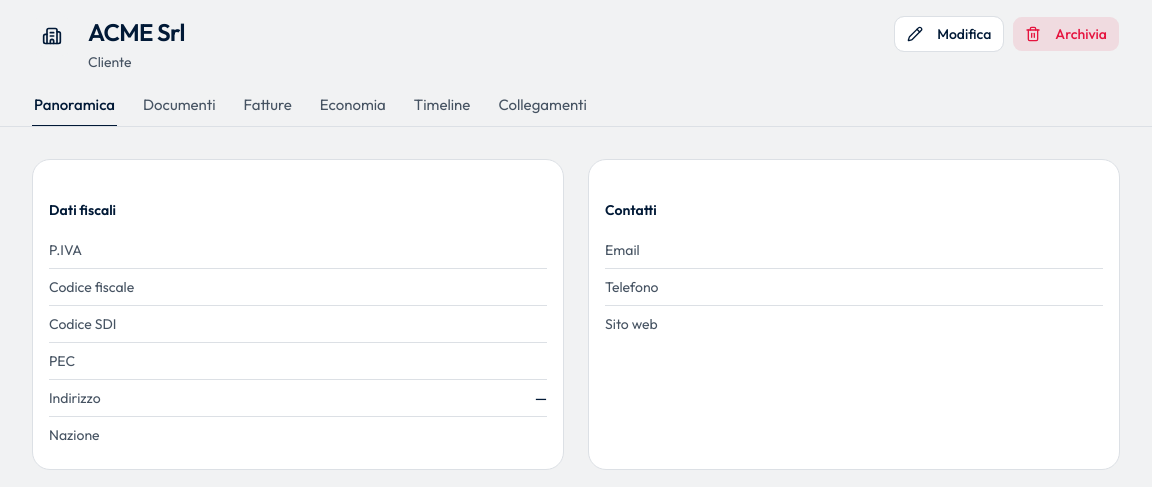
Scenario: CustomerDetail › the Fatture tab › offers a new invoice to whoever may create one
The width and height of the screenshot is (1152, 487).
Click the tab "Fatture".
click(268, 110)  # box x1=242 y1=94 x2=294 y2=126
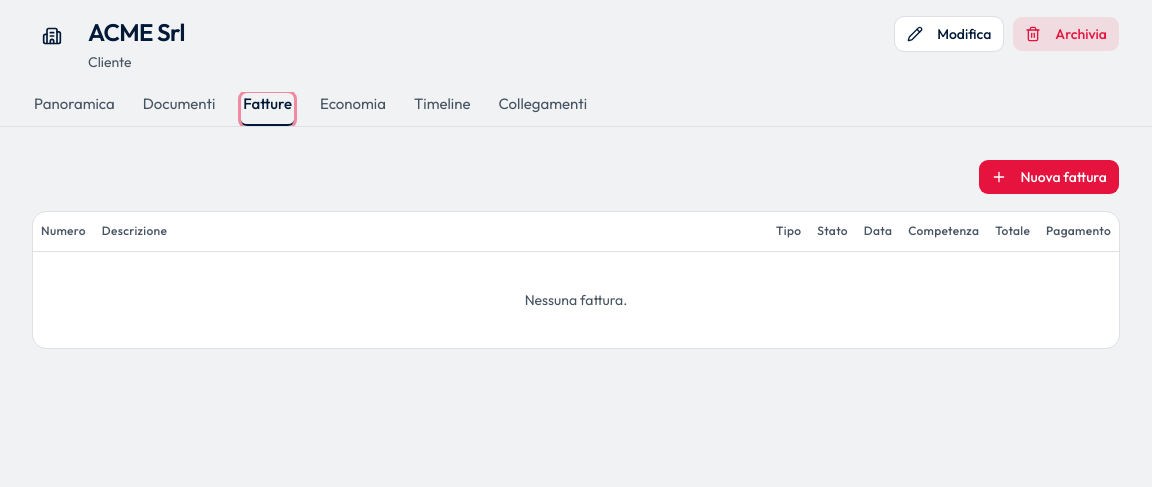
expect the button "Nuova fattura" is shown: met, box x1=978 y1=158 x2=1120 y2=194
